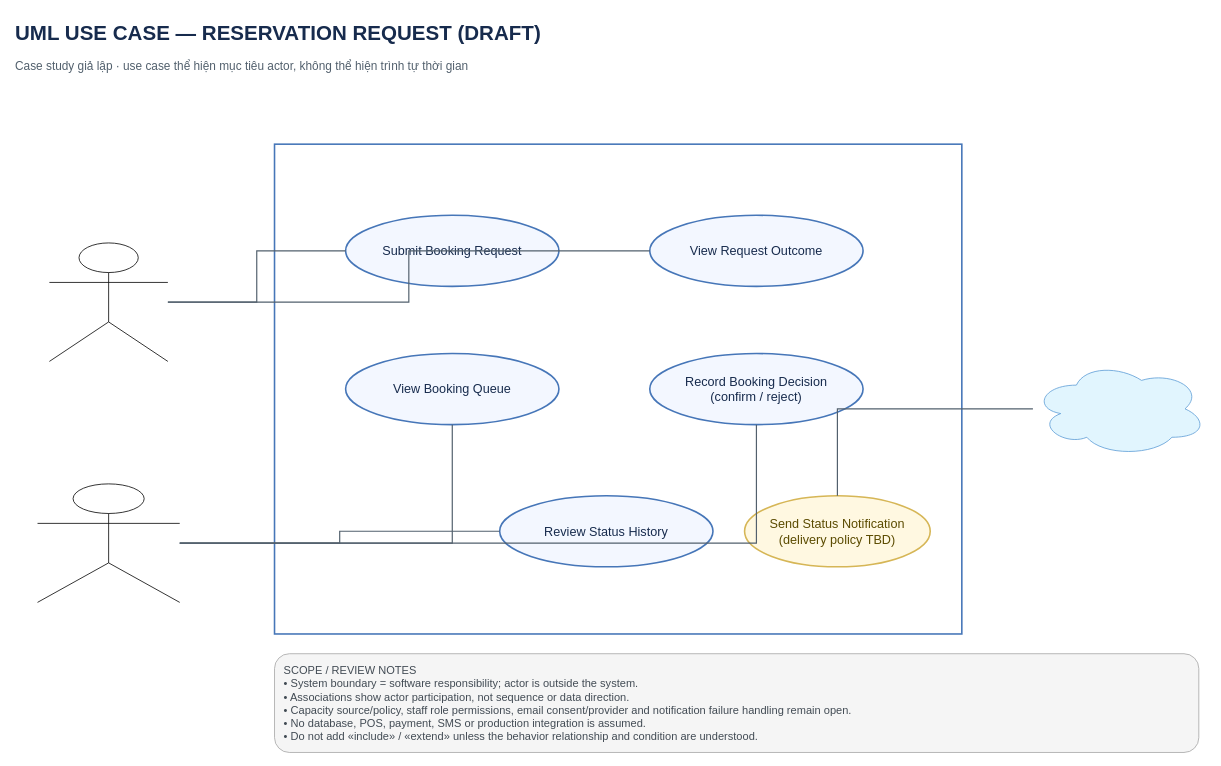
This 1221x766 diagram has some shape labels left out. The shapes that lost their labels are listed below. From the top down, each one's box as (x1, y1, x2, y2) in pixels, then its label:
(49, 242, 168, 361): Customer (external actor)
(273, 143, 962, 634): Proposed Reservation Request System — Draft
(1032, 361, 1207, 456): Email Provider (external service — proposed)
(37, 483, 180, 602): Restaurant Staff (authorized role — TBD)
